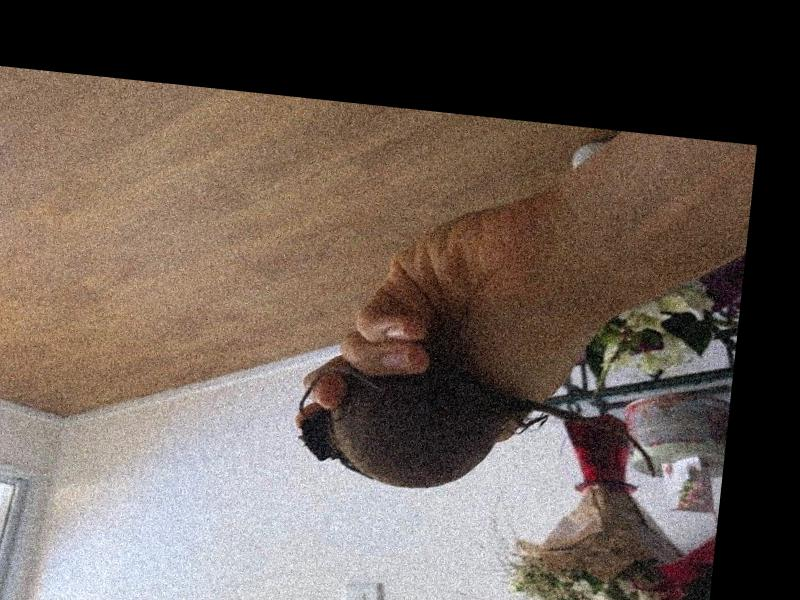Beet: (292, 351, 663, 512)
